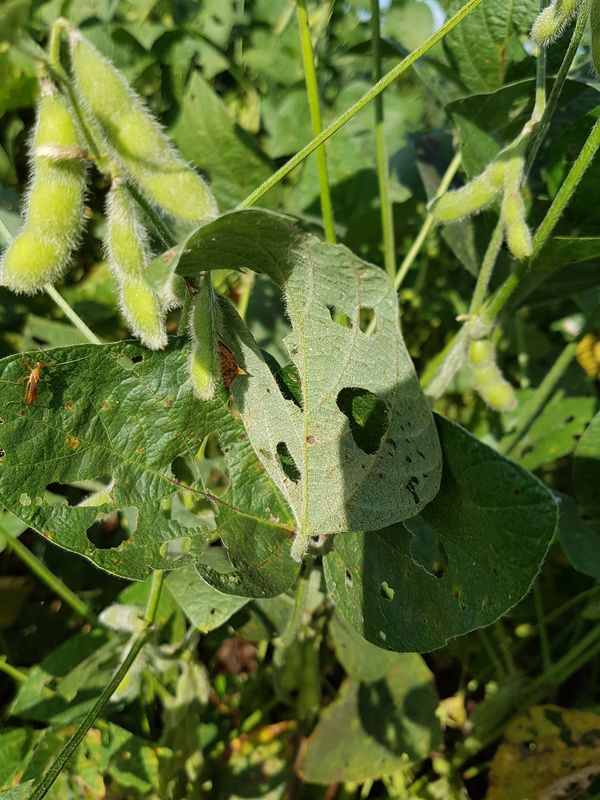Euschistus_heros_adulto: (201, 335, 258, 398)
